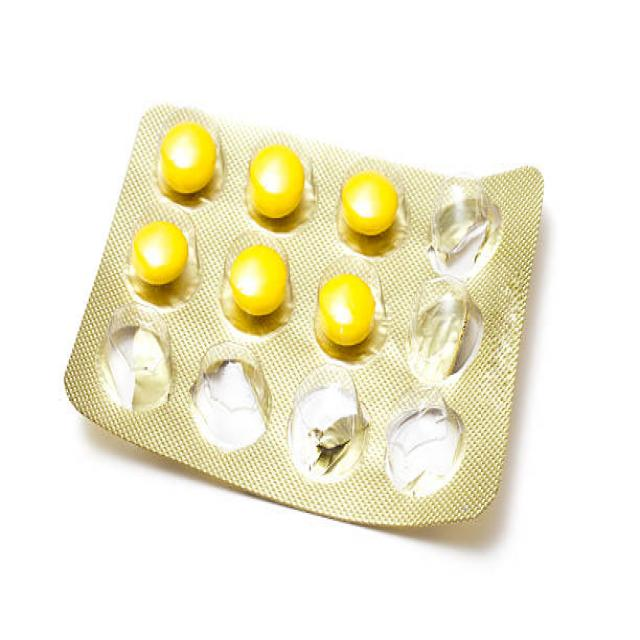Empty: (187, 330, 275, 460), (394, 282, 495, 385), (91, 302, 178, 421), (420, 175, 512, 281), (280, 368, 362, 483), (378, 402, 472, 502)
Pill: (140, 107, 238, 210), (218, 224, 296, 331), (127, 208, 210, 307), (332, 155, 410, 257), (240, 135, 322, 231), (313, 258, 386, 359)
